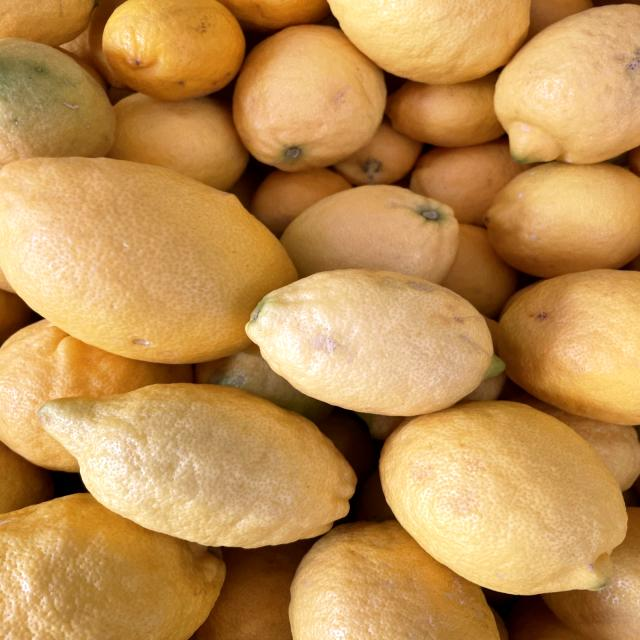lemon: (11, 147, 310, 368), (363, 391, 628, 607), (37, 379, 360, 553), (240, 266, 509, 420), (214, 18, 402, 177), (91, 0, 256, 108)
